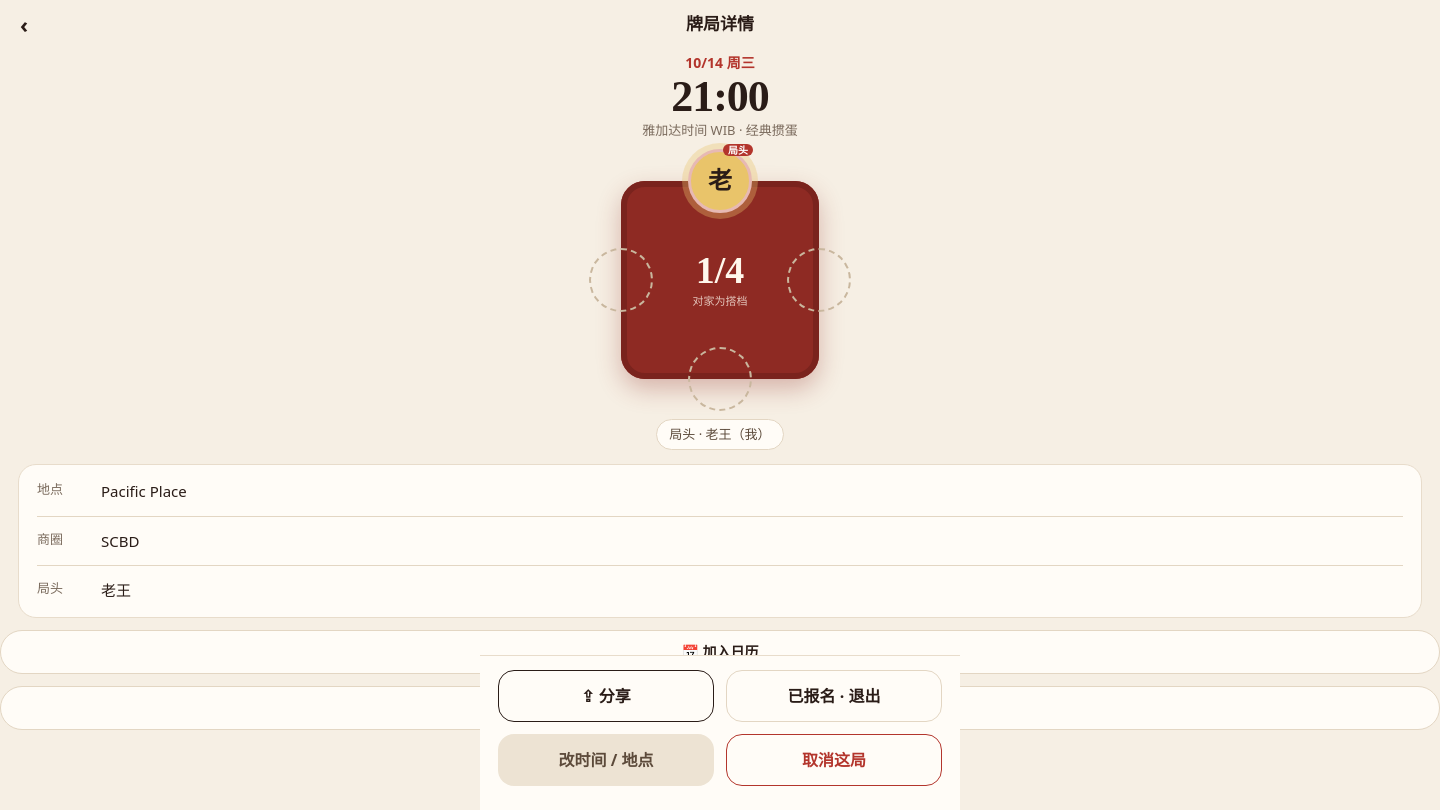
Test case: 加入日历 › 浏览器里：已报名的人点开后有 .ics 和 Google Calendar 两个出口
Click the button "📅 加入日历". click: [720, 652]
box: left=0, top=630, right=1439, bottom=674
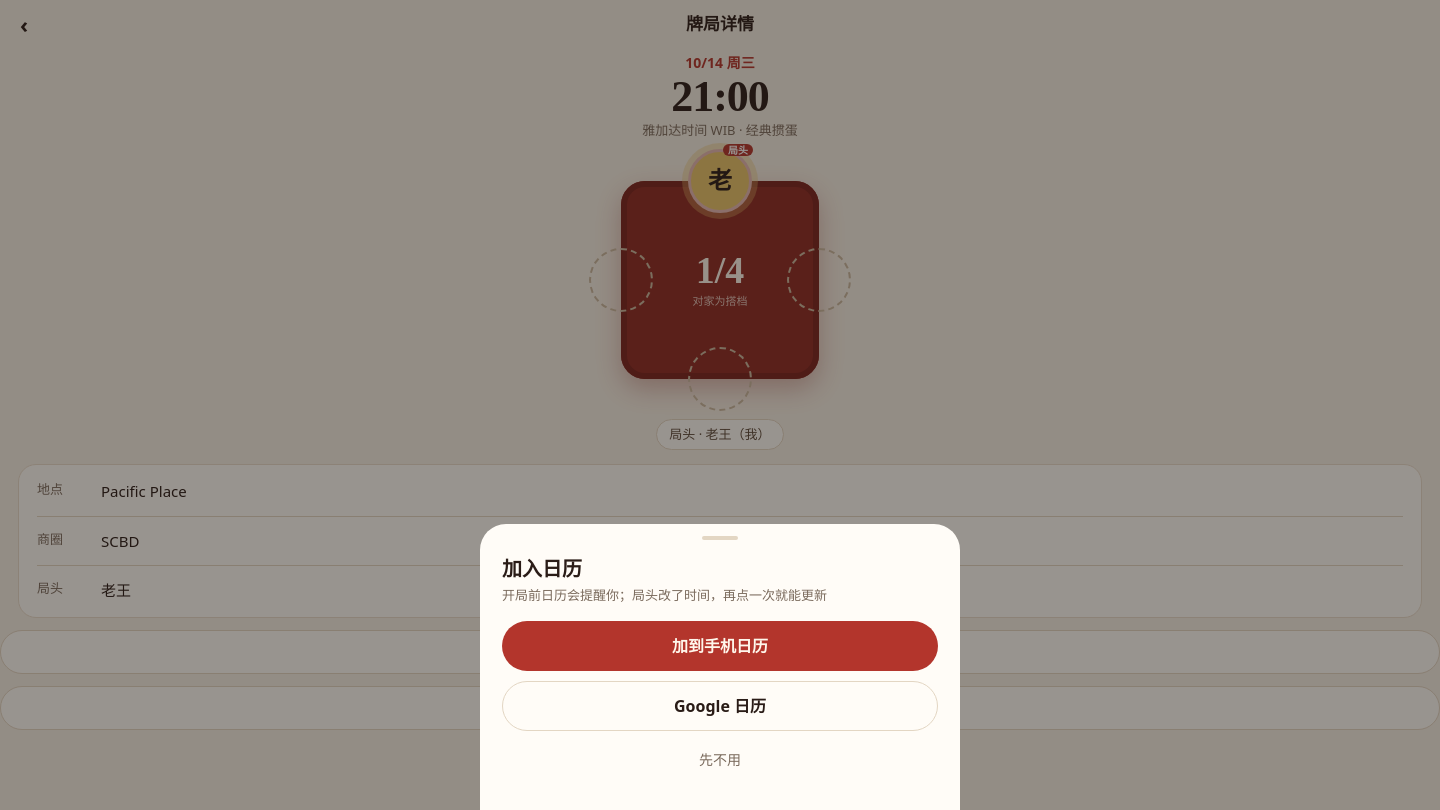
Expected: the dialog with test id "calendar-sheet" is shown, left=480, top=524, right=960, bottom=809
